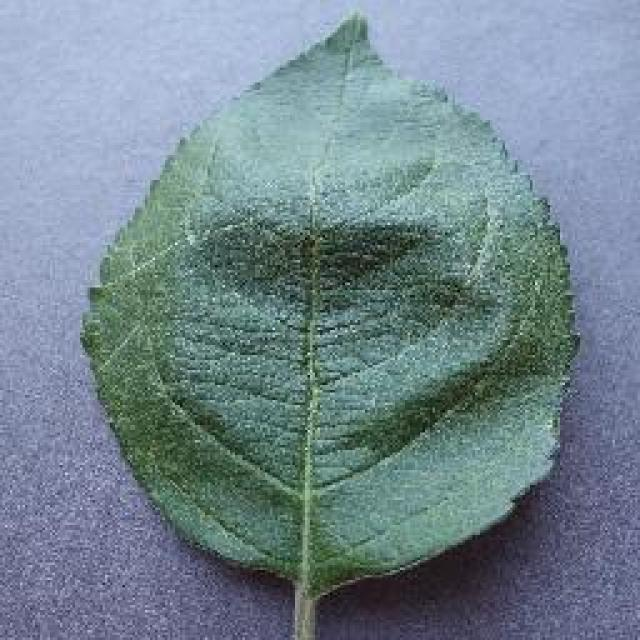apple healthy: (78, 8, 582, 630)
